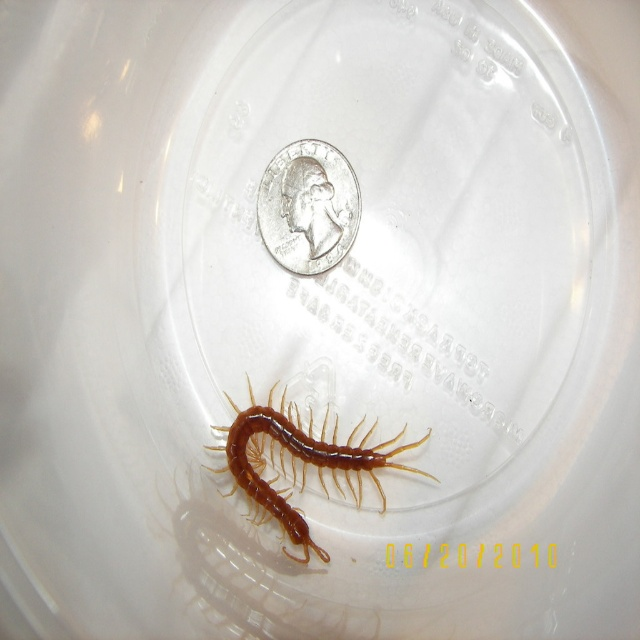Centipede: (202, 367, 442, 565)
